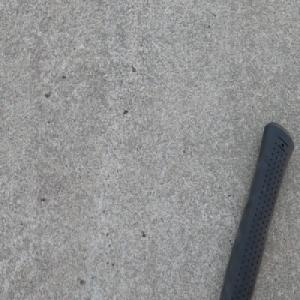Hammer: (217, 119, 295, 300)
